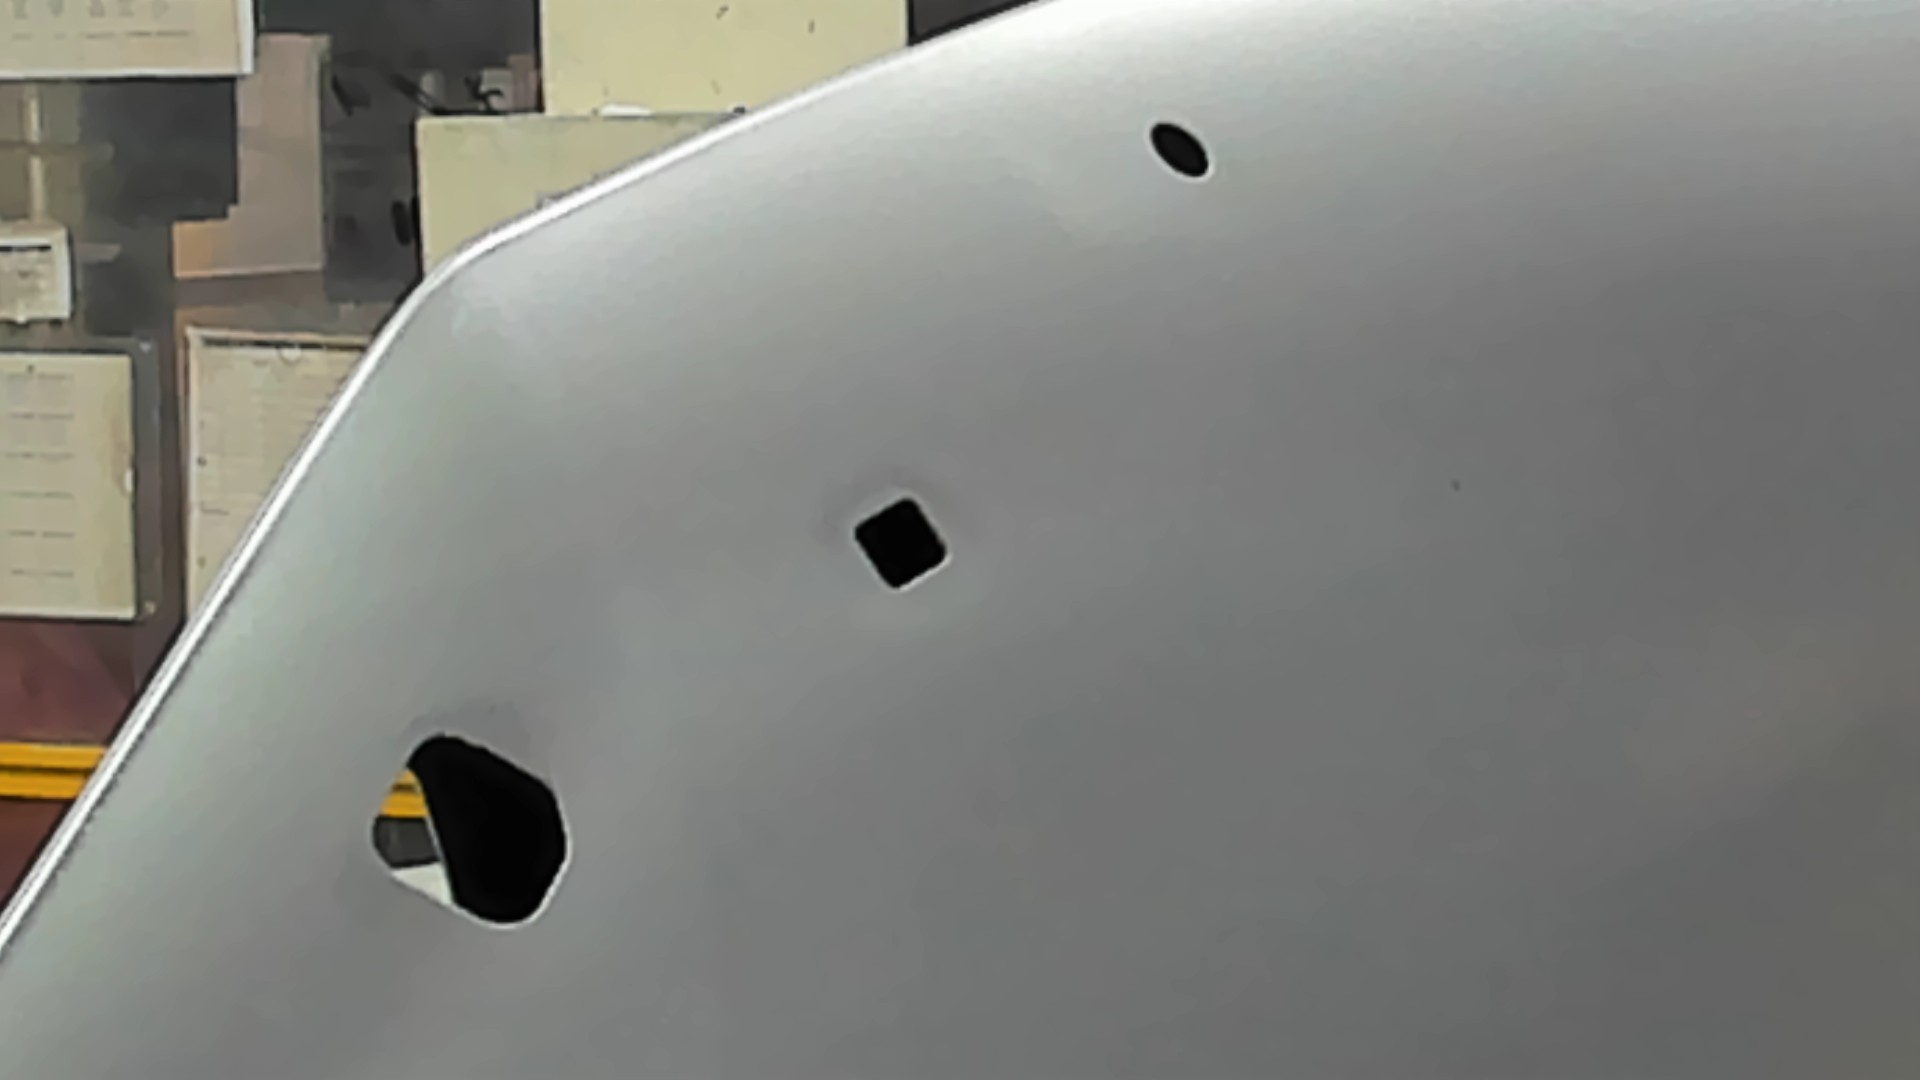chico: (1145, 120, 1215, 179)
grande: (368, 729, 574, 936)
mediano: (849, 491, 951, 596)
